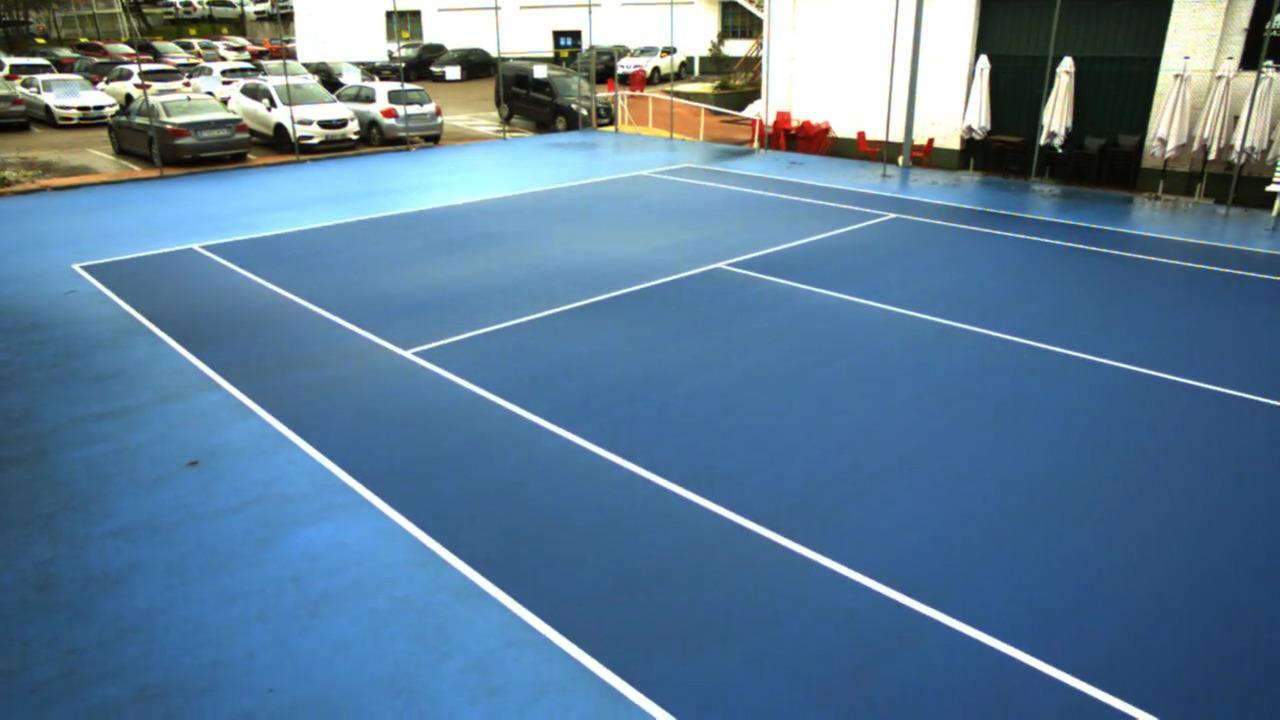cancha_tenis: (193, 169, 1280, 720)
point_f1: (182, 234, 207, 257)
point_f2: (628, 163, 661, 183)
point_fc1: (452, 196, 468, 209)
point_i1: (387, 337, 429, 368)
point_i2: (876, 203, 909, 226)
point_ic1: (706, 251, 737, 279)
